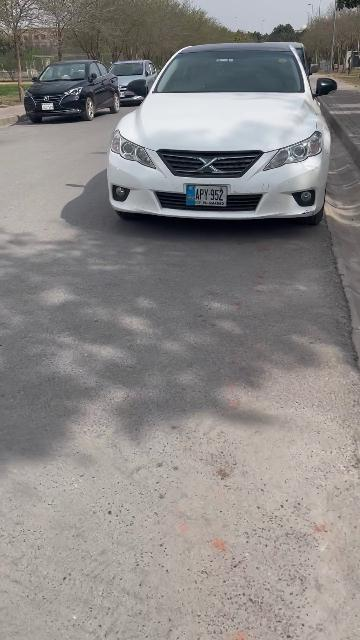plate: (185, 184, 228, 207)
